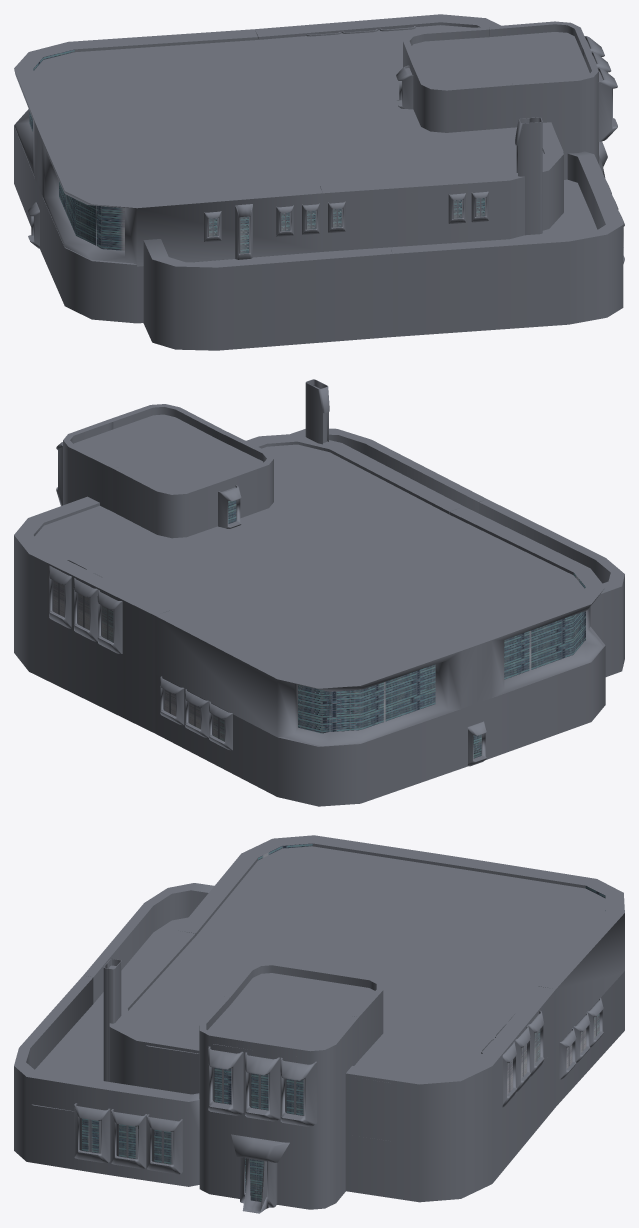
3 views of the same model, one above another, from view 1: azimuth 30°, elevation 25°; view 2: azimuth 150°, elevation 25°; view 3: azimuth 270°, elevation 25° (orthographic). The views are drawn at different scales.
Visible parts, largest first — view 1: tri_colonial_sector; view 2: tri_colonial_sector; view 3: tri_colonial_sector.
Part boxes in pixels (left/top/right/bottom): tri_colonial_sector: left=14, top=14, right=624, bottom=350; tri_colonial_sector: left=14, top=379, right=624, bottom=806; tri_colonial_sector: left=14, top=835, right=624, bottom=1213.
Bounding box in the file's own units: 38.72 × 11.9 × 37.82.
